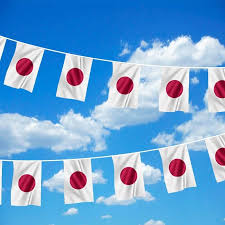Japanese Flag: (155, 144, 200, 195), (53, 51, 94, 106), (106, 59, 143, 112), (61, 152, 97, 206), (6, 41, 42, 93), (109, 151, 147, 200), (155, 63, 192, 113), (11, 157, 44, 210), (206, 64, 225, 122), (206, 131, 225, 185)
